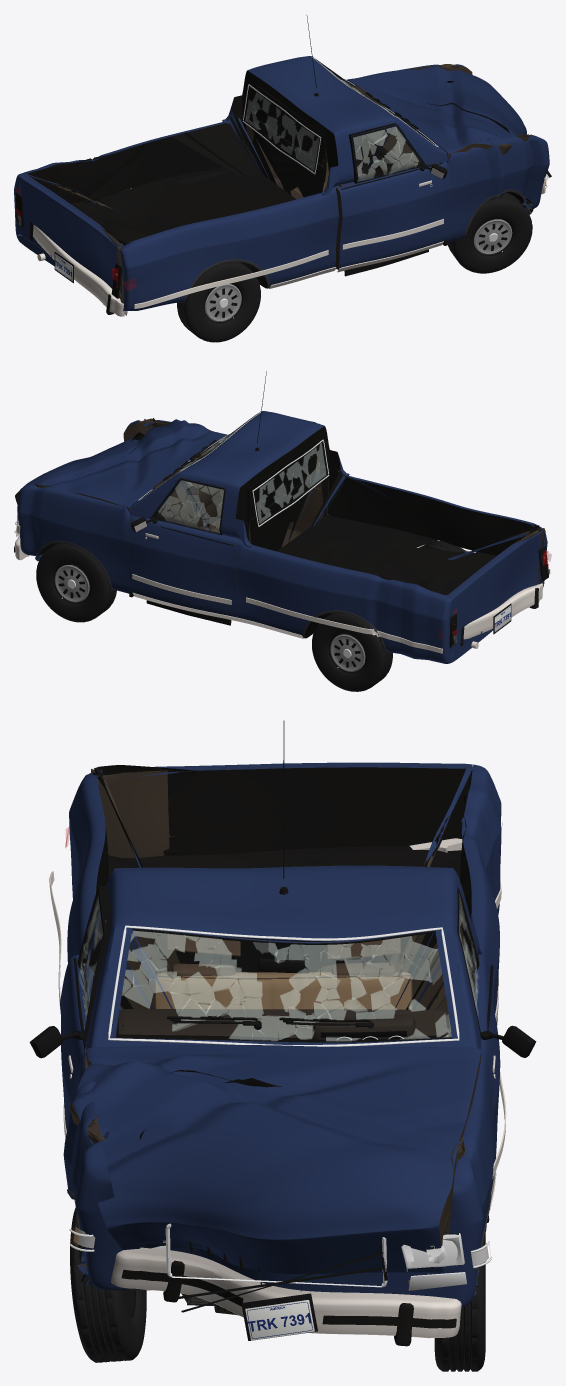
The model's file is pickup87_front_corner_R_d1.glb.
3 views of the same model, one above another, from view 1: azimuth 30°, elevation 25°; view 2: azimuth 150°, elevation 25°; view 3: azimuth 270°, elevation 25° (orthographic). The views are drawn at different scales.
Parts seen in each view (by area): view 1: Body, Hood, Door_FR, Tailgate, Wheel_RR_mesh, Wheel_FR_mesh, Glass, Interior, Trim, Trim_FR, Glass_FR, Bumper_R (+1 smaller); view 2: Body, Door_FL, Hood, Wheel_FL_mesh, Wheel_RL_mesh, Tailgate, Glass, Trim, Interior, Trim_FL, Glass_FL, Bumper_R (+1 smaller); view 3: Body, Hood, Interior, Glass, Bumper_F, Ends, Wheel_FR_mesh, Door_FR, Wheel_FL_mesh, Door_FL, Trim, Trim_FL (+3 smaller).
Boxes of the visible parts, x1,y1,x2,y2 form: Body: (14,56,549,310); Hood: (347,66,526,158); Door_FR: (335,123,448,269); Tailgate: (19,175,121,300); Wheel_RR_mesh: (177,261,260,342); Wheel_FR_mesh: (447,192,532,273); Glass: (243,57,438,174); Interior: (294,85,418,194); Trim: (134,15,532,308); Trim_FR: (337,124,447,276); Glass_FR: (351,124,422,183); Bumper_R: (29,222,127,316); Body: (17,411,547,663); Door_FL: (128,478,240,617); Hood: (15,419,226,511); Wheel_FL_mesh: (36,543,116,622); Wheel_RL_mesh: (312,612,392,691); Tailgate: (449,529,543,654); Glass: (138,412,329,526); Trim: (35,371,550,653); Interior: (152,471,223,532); Trim_FL: (131,478,238,625); Glass_FL: (154,478,225,534); Bumper_R: (460,583,543,645); Body: (63,764,501,1307); Hood: (70,1044,481,1273); Interior: (116,934,451,1039); Glass: (108,925,459,1046); Bumper_F: (111,1247,461,1346); Ends: (69,1223,492,1340); Wheel_FR_mesh: (70,1207,146,1362); Door_FR: (60,886,110,1130); Wheel_FL_mesh: (434,1230,485,1371); Door_FL: (457,887,500,1191); Trim: (49,720,501,1289); Trim_FL: (457,888,536,1210).
Bounding box in the file's own units: 4.94 × 2.57 × 2.34.
Materials: 34 (5 with a texture image).
